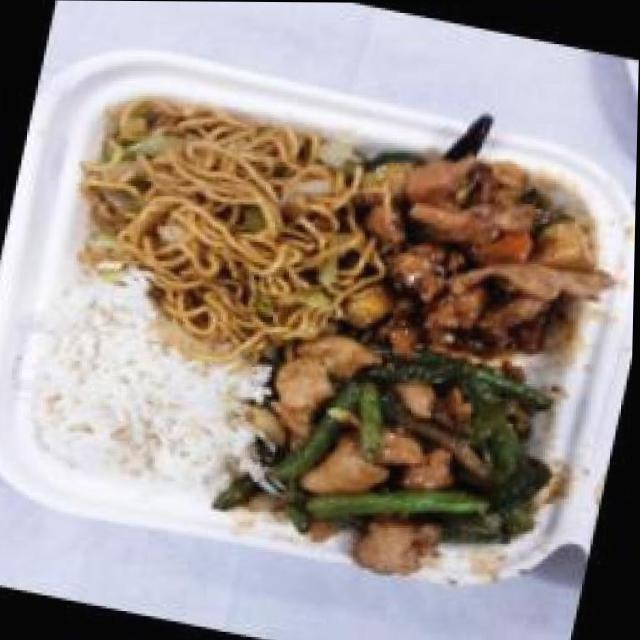Chow Mein: (59, 80, 387, 355)
Kung Pao Chicken: (336, 132, 624, 379)
String Bean Chicken Breast: (230, 306, 585, 593)
White Steamed Rice: (13, 280, 275, 507)
